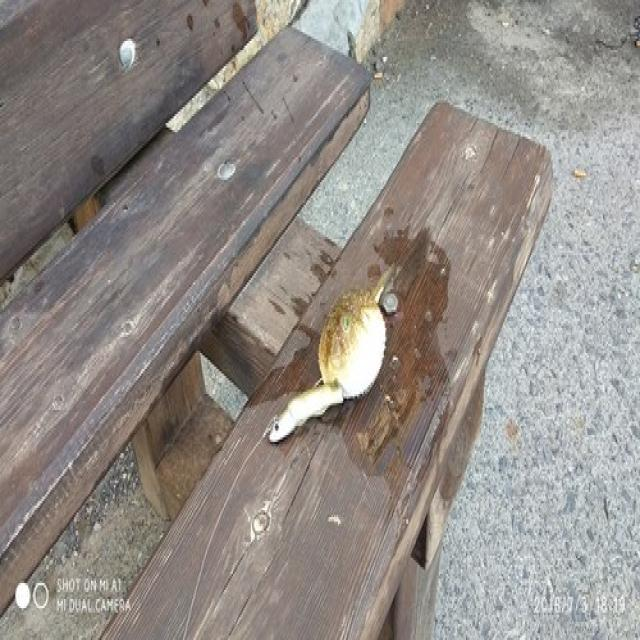Balik: (269, 269, 391, 441)
